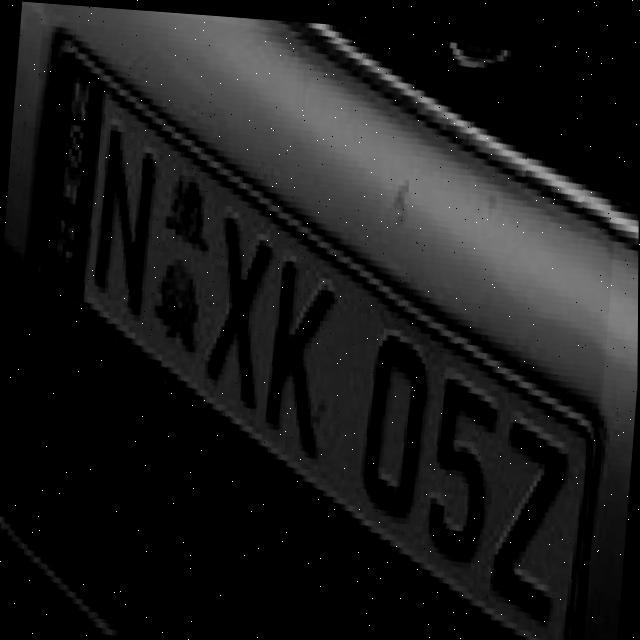LicensePlate: (0, 0, 626, 640)
